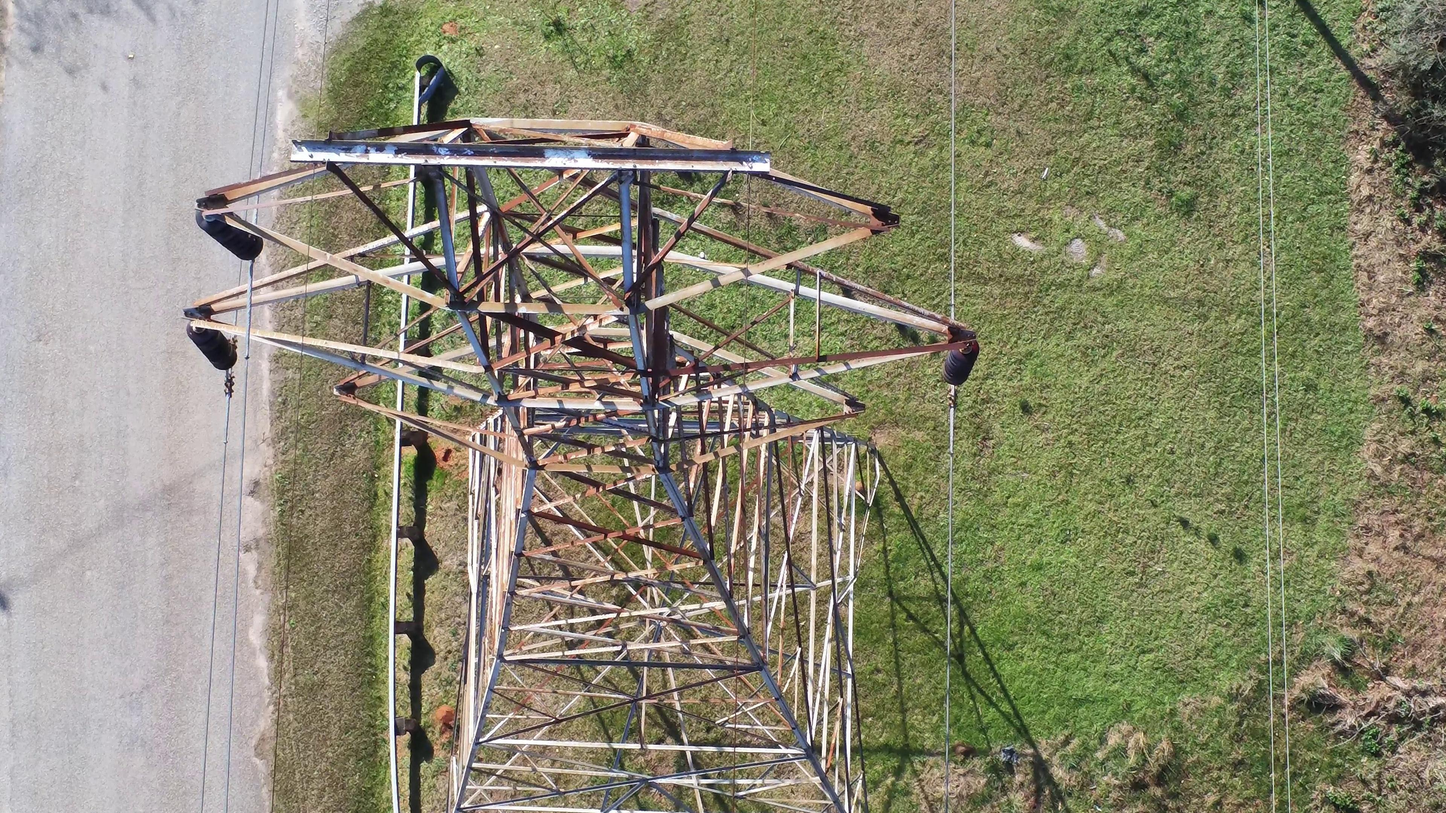power_tower: (183, 55, 979, 813)
